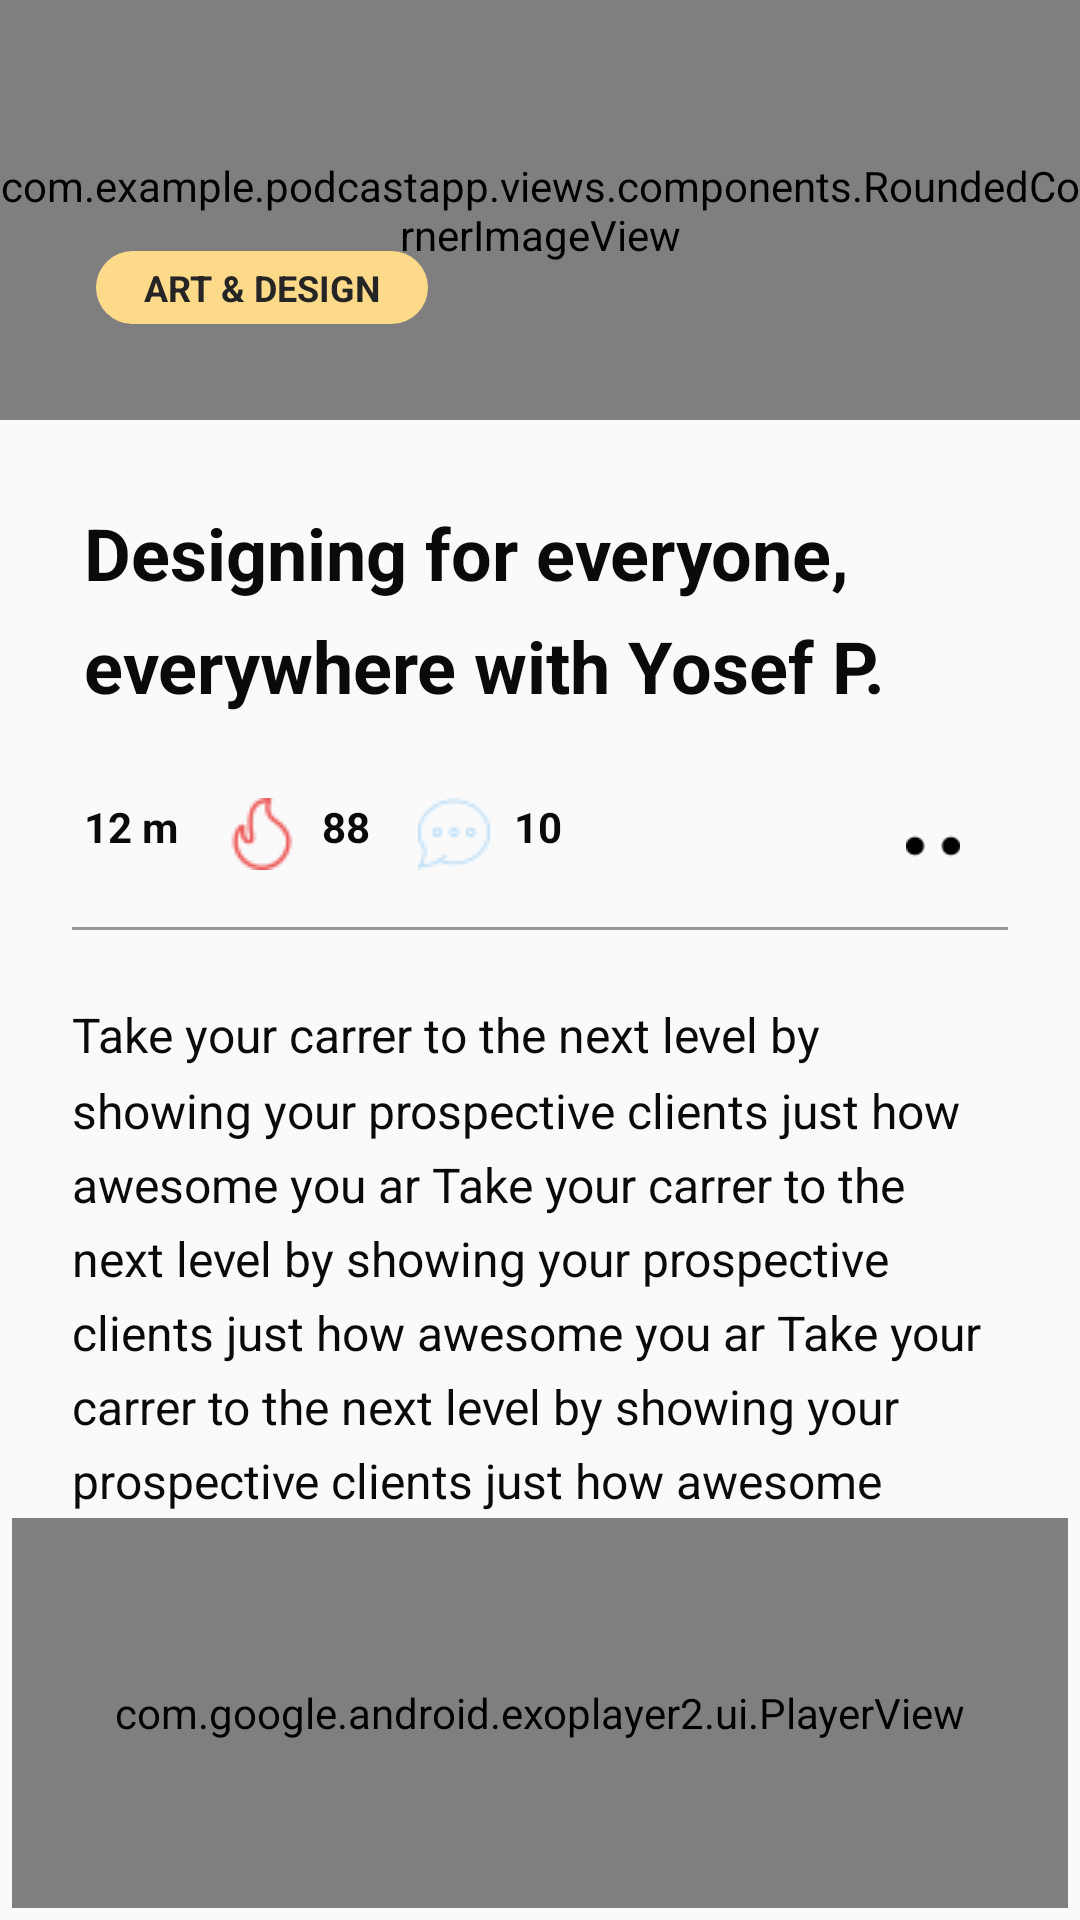

Where to tap for icons on this 1080 × 1920 app screen, as [x,y]:
two dots: [933,846]
